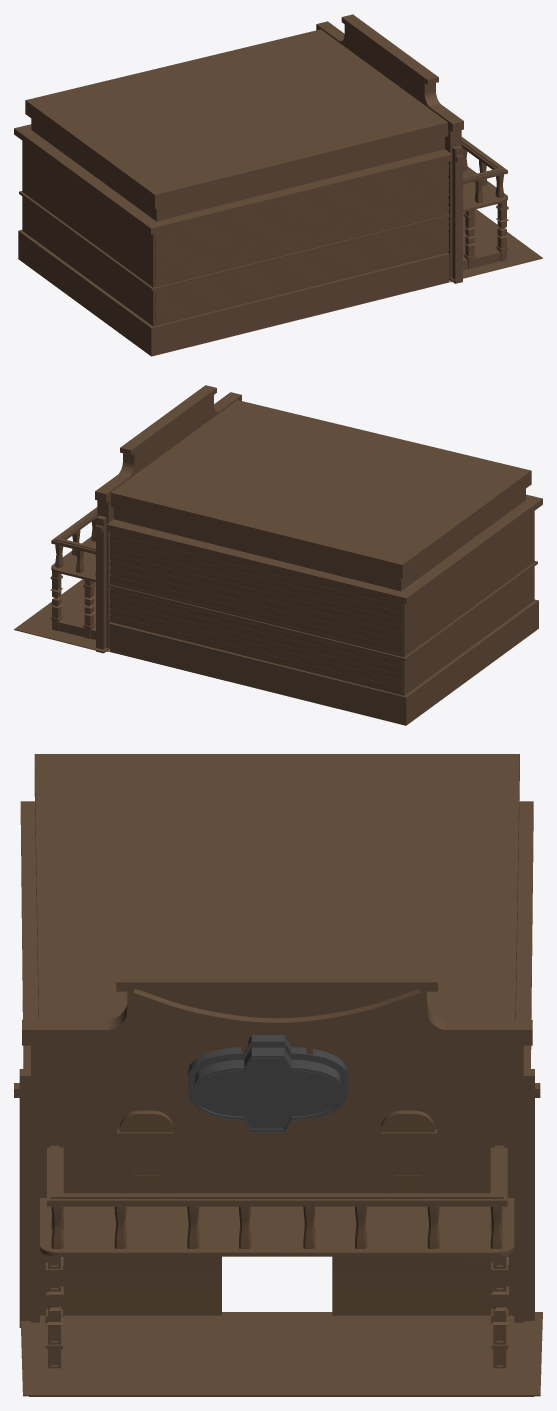
The model's file is saloon_building.fbx.
3 views of the same model, one above another, from view 1: azimuth 30°, elevation 25°; view 2: azimuth 150°, elevation 25°; view 3: azimuth 270°, elevation 25° (orthographic). The views are drawn at different scales.
Parts seen in each view (by area): view 1: saloon_build; view 2: saloon_build; view 3: saloon_build.
Boxes of the visible parts, x1,y1,x2,y2 form: saloon_build: (14, 14, 542, 356); saloon_build: (14, 385, 542, 725); saloon_build: (14, 754, 542, 1396).
Bounding box in the file's own units: 42.54 × 19.27 × 26.51.
